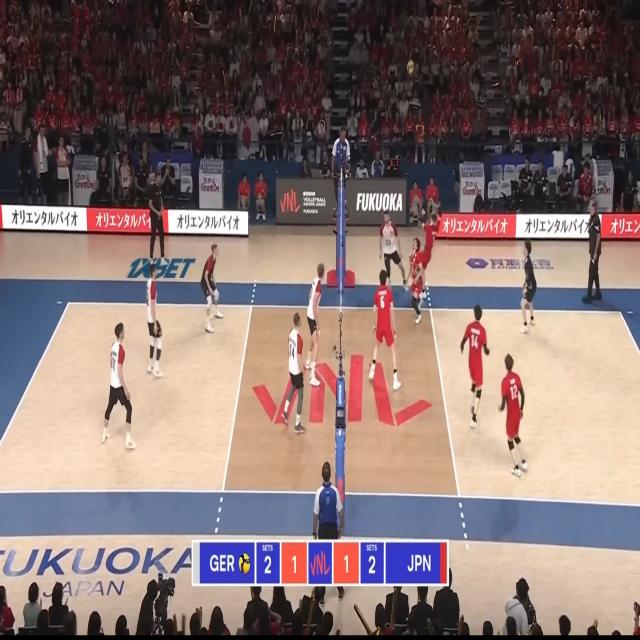ball: (407, 60, 414, 74)
